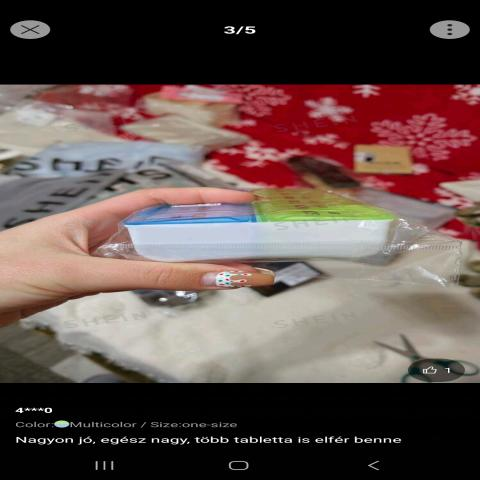Pill-box: (101, 186, 441, 265)
